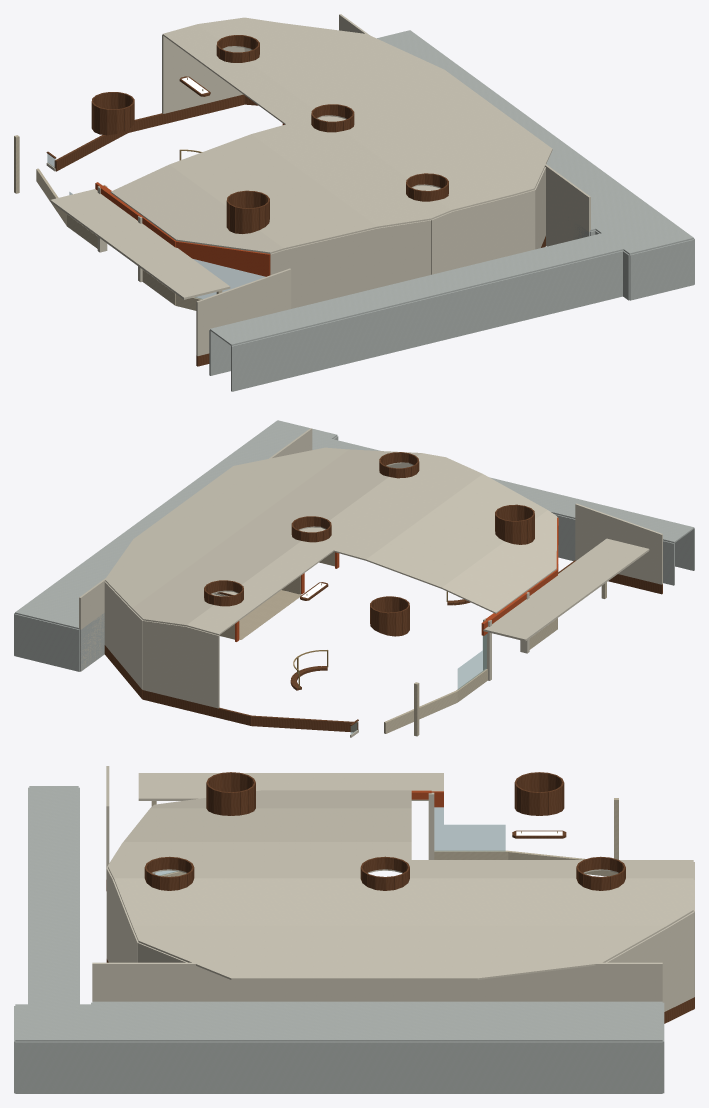
File: Retail_receiving_successor.glb
3 renders of one model, top to bottom at view 1: azimuth 30°, elevation 25°; view 2: azimuth 150°, elevation 25°; view 3: azimuth 270°, elevation 25°, orthographic. The views are drawn at different scales.
Parts seen in each view (by area): view 1: TAIL_StaffOuter_6, TAIL_PublicCeiling_105, TAIL_PromenadeCanopy, TAIL_PublicWall_22_1, TAIL_PublicCeiling_101, TAIL_ServiceCeiling_4, TAIL_ServiceCeiling_1, TAIL_PublicCeiling_102, TAIL_PublicCeiling_71, TAIL_ServiceCeiling_3, TAIL_PublicWall_20, TAIL_PublicWall_23_1 (+30 smaller); view 2: TAIL_PublicCeiling_105, TAIL_PromenadeCanopy, TAIL_ServiceCeiling_3, TAIL_PublicCeiling_101, TAIL_PublicCeiling_102, TAIL_PublicCeiling_41, TAIL_PublicWall_20, TAIL_PublicCeiling_71, TAIL_PublicWall_15_0, TAIL_PublicCeiling_1, TAIL_PublicCeiling_40, TAIL_StaffOuter_12 (+30 smaller); view 3: TAIL_StaffOuter_11, TAIL_PublicCeiling_105, TAIL_ServiceCeiling_3, TAIL_ServiceCeiling_0, TAIL_PublicCeiling_101, TAIL_PublicCeiling_102, TAIL_ServiceCeiling_4, TAIL_ServiceCeiling_1, TAIL_UpperStaffScreen_4, TAIL_PromenadeCanopy, TAIL_PublicCeiling_71, TAIL_StaffOuter_9 (+32 smaller).
Boxes of the visible parts, bbox=[...] form: TAIL_StaffOuter_6: bbox=[231, 250, 623, 391]; TAIL_PublicCeiling_105: bbox=[280, 23, 513, 193]; TAIL_PromenadeCanopy: bbox=[50, 189, 230, 299]; TAIL_PublicWall_22_1: bbox=[284, 228, 377, 308]; TAIL_PublicCeiling_101: bbox=[280, 23, 512, 193]; TAIL_ServiceCeiling_4: bbox=[231, 233, 623, 345]; TAIL_ServiceCeiling_1: bbox=[210, 233, 599, 345]; TAIL_PublicCeiling_102: bbox=[445, 70, 552, 193]; TAIL_PublicCeiling_71: bbox=[251, 101, 376, 225]; TAIL_ServiceCeiling_3: bbox=[377, 30, 651, 206]; TAIL_PublicWall_20: bbox=[196, 268, 291, 355]; TAIL_PublicWall_23_1: bbox=[452, 196, 514, 269]; TAIL_PublicCeiling_105: bbox=[132, 450, 347, 607]; TAIL_PromenadeCanopy: bbox=[483, 538, 649, 641]; TAIL_ServiceCeiling_3: bbox=[15, 448, 239, 629]; TAIL_PublicCeiling_101: bbox=[133, 450, 348, 607]; TAIL_PublicCeiling_102: bbox=[134, 449, 347, 538]; TAIL_PublicCeiling_41: bbox=[408, 474, 494, 582]; TAIL_PublicWall_20: bbox=[575, 503, 662, 584]; TAIL_PublicCeiling_71: bbox=[303, 474, 481, 573]; TAIL_PublicWall_15_0: bbox=[142, 620, 186, 700]; TAIL_PublicCeiling_1: bbox=[442, 541, 556, 598]; TAIL_PublicCeiling_40: bbox=[366, 474, 482, 576]; TAIL_StaffOuter_12: bbox=[14, 614, 79, 671]; TAIL_StaffOuter_11: bbox=[108, 1041, 662, 1093]; TAIL_PublicCeiling_105: bbox=[133, 925, 666, 978]; TAIL_ServiceCeiling_3: bbox=[108, 1001, 662, 1041]; TAIL_ServiceCeiling_0: bbox=[93, 1001, 649, 1039]; TAIL_PublicCeiling_101: bbox=[135, 891, 664, 925]; TAIL_PublicCeiling_102: bbox=[133, 926, 477, 979]; TAIL_ServiceCeiling_4: bbox=[29, 787, 78, 1004]; TAIL_ServiceCeiling_1: bbox=[29, 786, 78, 1003]; TAIL_UpperStaffScreen_4: bbox=[92, 962, 238, 1001]; TAIL_PromenadeCanopy: bbox=[138, 773, 443, 800]; TAIL_PublicCeiling_71: bbox=[125, 842, 485, 866]; TAIL_StaffOuter_9: bbox=[15, 1041, 92, 1093].
Size of the model in its own units: 39.09 by 8.26 by 44.18.
Materials: 11 (9 with a texture image).
